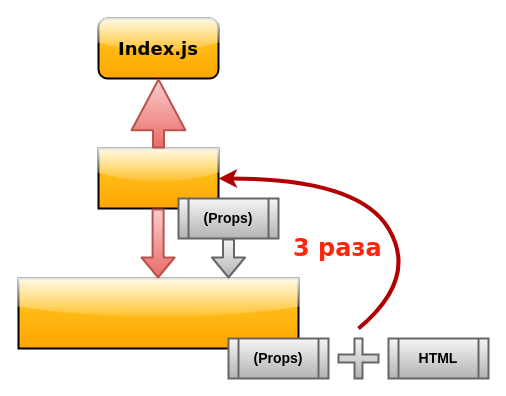
Image size: 506x396. Some labels were removed from this diagram. Each missing label, with the centre of its shape:
"App.jsx" belongs at point (158, 178).
"Post.jsx" belongs at point (158, 313).
